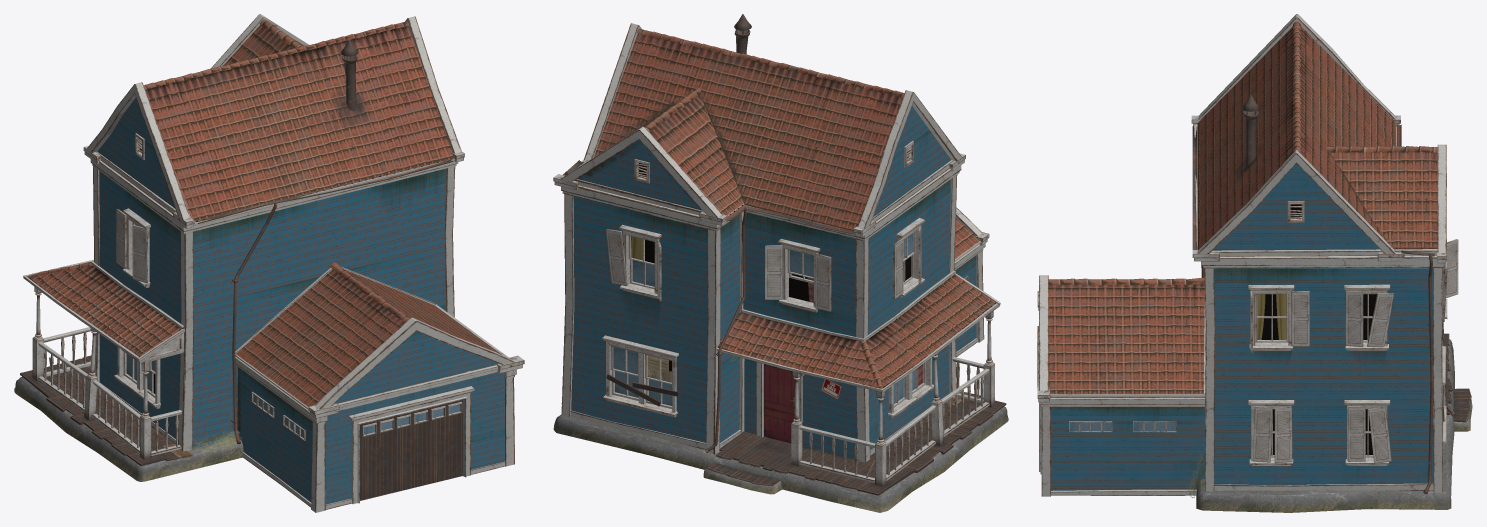
The model's file is suburban_shabby_house_low_poly.glb.
3 views of the same model, side by side, from view 1: azimuth 30°, elevation 25°; view 2: azimuth 150°, elevation 25°; view 3: azimuth 270°, elevation 25° (orthographic).
Parts seen in each view (by area): view 1: Object_3, Object_4, Object_2; view 2: Object_3, Object_4, Object_2; view 3: Object_3, Object_4, Object_2.
Boxes of the visible parts, left/top/right/bottom form: Object_3: left=14, top=14, right=524, bottom=512; Object_4: left=20, top=25, right=501, bottom=465; Object_2: left=29, top=90, right=426, bottom=457; Object_3: left=553, top=14, right=1008, bottom=512; Object_4: left=563, top=29, right=1006, bottom=495; Object_2: left=576, top=94, right=947, bottom=488; Object_3: left=1037, top=14, right=1472, bottom=512; Object_4: left=1048, top=111, right=1471, bottom=454; Object_2: left=1187, top=145, right=1386, bottom=497.
Bounding box in the file's own units: 1596 × 1652 × 1739.
2 materials, 2 textured.
